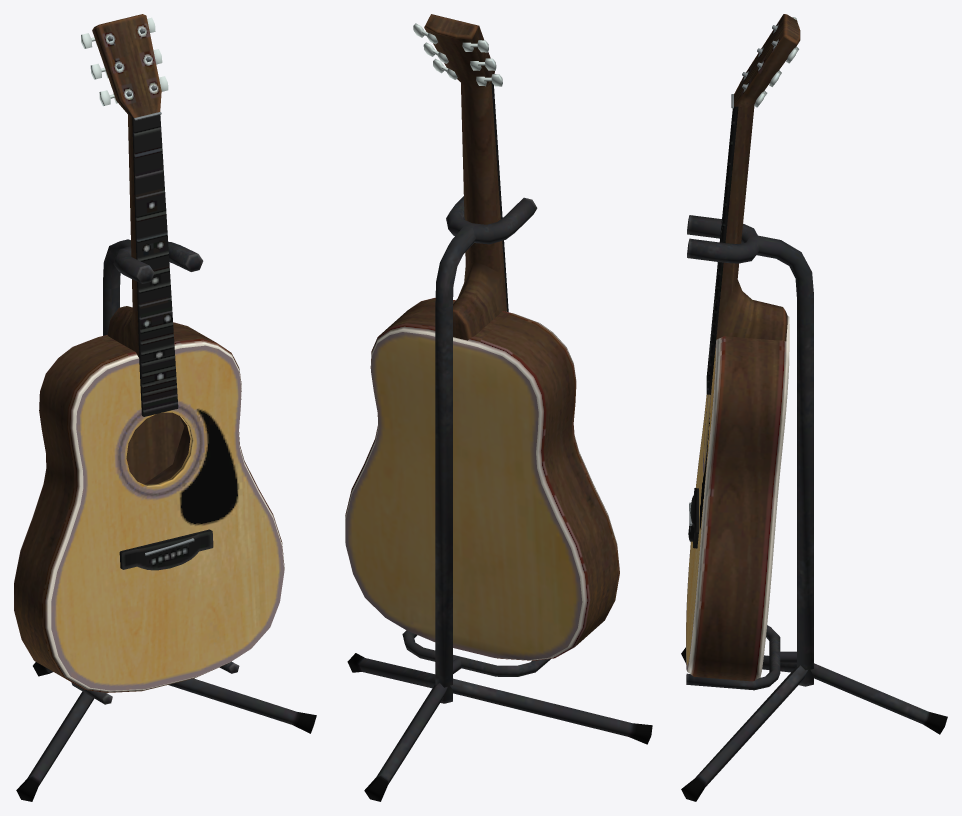
File: guitar.glb
The picture shows the model from 3 angles, left to right: view 1: azimuth 30°, elevation 25°; view 2: azimuth 150°, elevation 25°; view 3: azimuth 270°, elevation 25°; orthographic projection. The views are drawn at different scales.
Visible parts, largest first — view 1: guitar__mReBody; view 2: guitar__mReBody; view 3: guitar__mReBody.
Part boxes in pixels (bbox=[...]): guitar__mReBody: bbox=[14, 14, 316, 801]; guitar__mReBody: bbox=[345, 14, 652, 801]; guitar__mReBody: bbox=[681, 14, 947, 801].
Bounding box in the file's own units: 0.5239 × 1.19 × 0.4072.
Materials: 1 (1 with a texture image).
